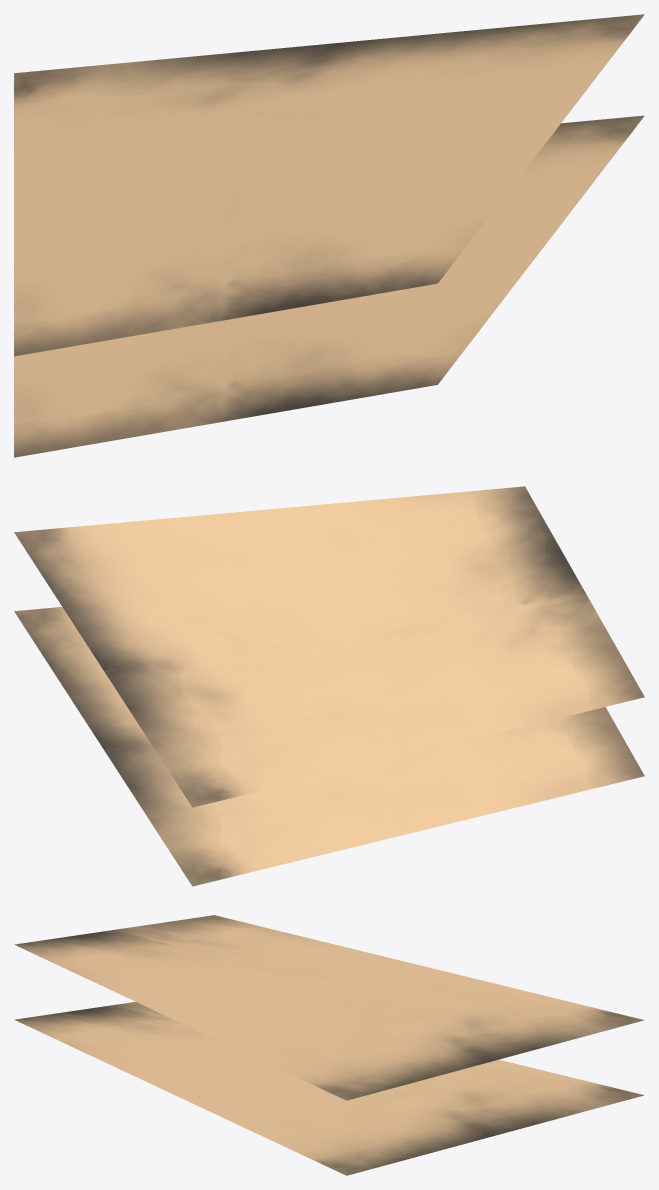
Rendered from CourseSummer_CurveFloor_9_5.fbx.
3 renders of one model, top to bottom at view 1: azimuth 30°, elevation 25°; view 2: azimuth 150°, elevation 25°; view 3: azimuth 270°, elevation 25°, orthographic. The views are drawn at different scales.
Visible parts, largest first — view 1: polySurface259, polySurface267; view 2: polySurface259, polySurface267; view 3: polySurface259, polySurface267.
Boxes of the visible parts, x1,y1,x2,y2 form: polySurface259: (14,14,644,356); polySurface267: (14,115,644,457); polySurface259: (14,486,644,807); polySurface267: (14,607,644,886); polySurface259: (14,915,644,1100); polySurface267: (14,1002,644,1175).
Size of the model in its own units: 7.44 by 2 by 7.61.
1 material, 1 textured.
